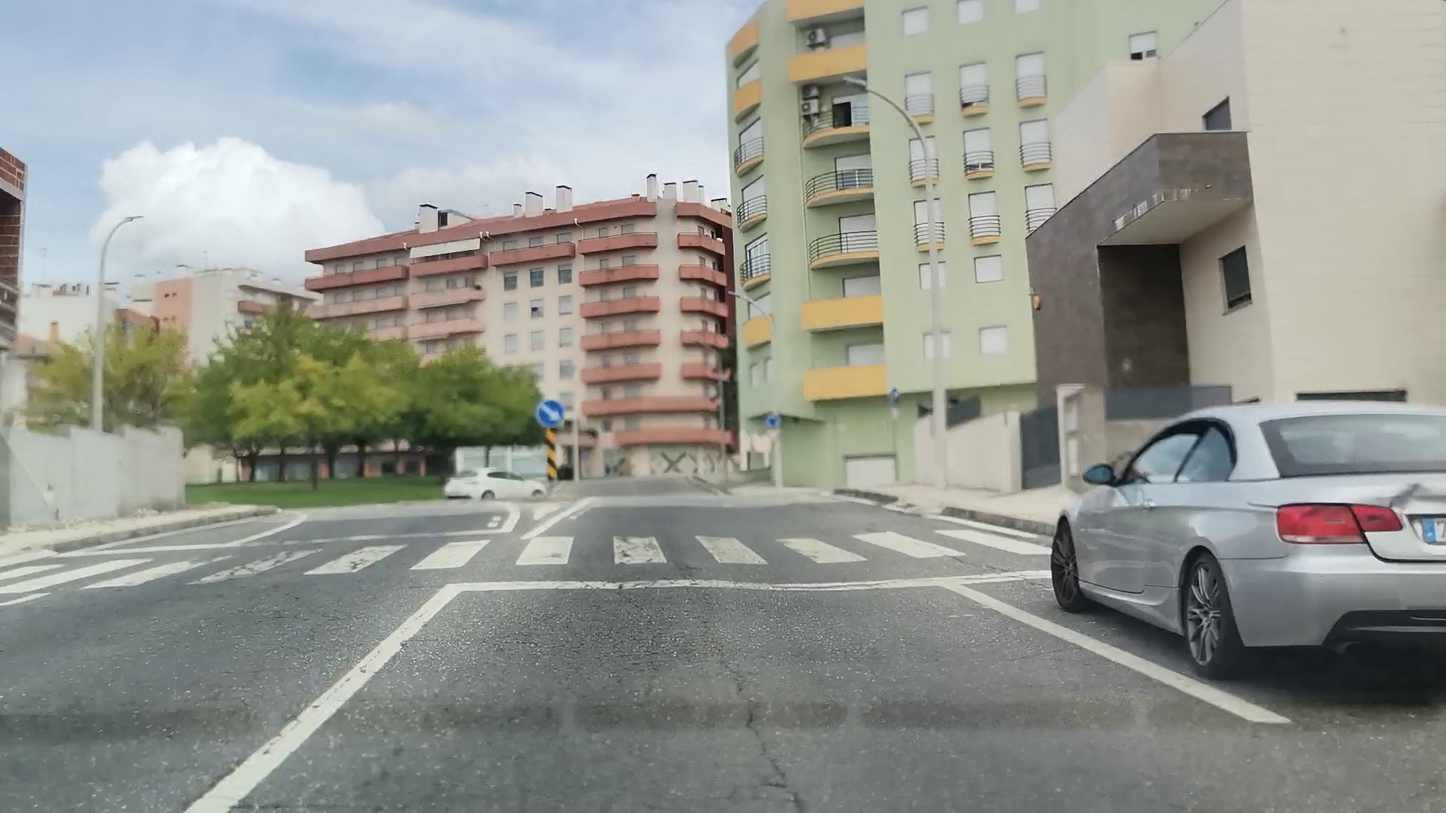Stairs: (0, 521, 1051, 596)
